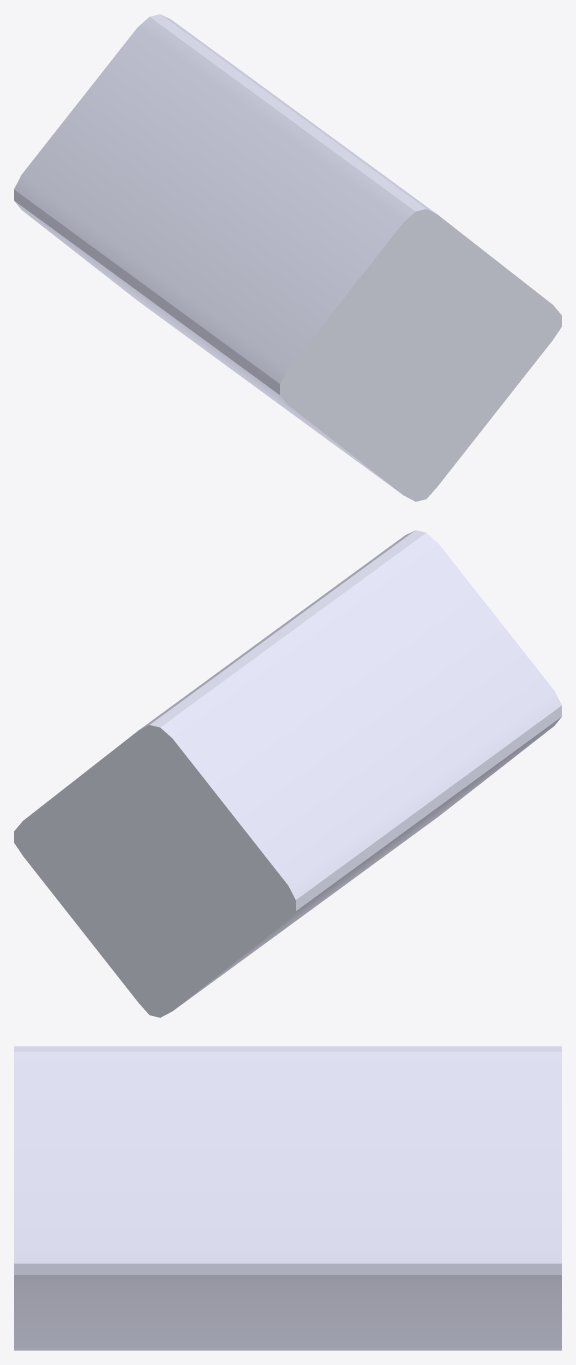
The model's file is 5376c429-4d61-4a4a-abc8-76e97eb5b71d.glb.
3 views of the same model, one above another, from view 1: azimuth 30°, elevation 25°; view 2: azimuth 150°, elevation 25°; view 3: azimuth 270°, elevation 25° (orthographic). The views are drawn at different scales.
Parts seen in each view (by area): view 1: ._Soul_Grey; view 2: ._Soul_Grey; view 3: ._Soul_Grey.
Boxes of the visible parts, bbox=[...] form: ._Soul_Grey: bbox=[14, 14, 561, 501]; ._Soul_Grey: bbox=[14, 530, 561, 1017]; ._Soul_Grey: bbox=[14, 1046, 561, 1350].
Size of what is drawn, in the model's own units: 0.0275 by 0.0271 by 0.045.
2 materials, 2 textured.
